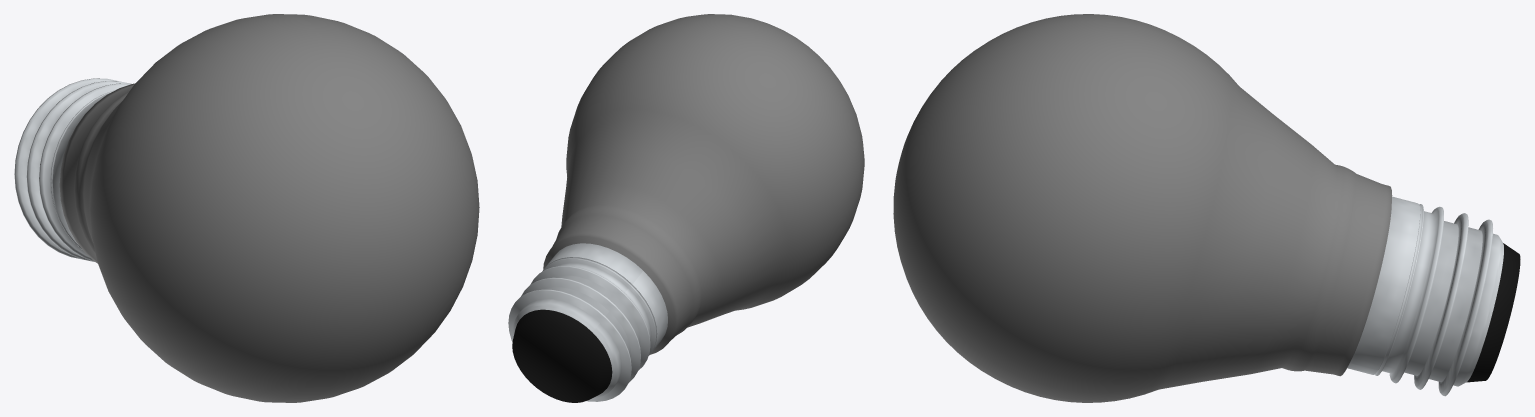
File: lighting_light_bulb_with_bulb_holder_6.glb
3 views of the same model, side by side, from view 1: azimuth 30°, elevation 25°; view 2: azimuth 150°, elevation 25°; view 3: azimuth 270°, elevation 25° (orthographic). The views are drawn at different scales.
Visible parts, largest first — view 1: Light Bulb.001; view 2: Light Bulb.001; view 3: Light Bulb.001.
Boxes of the visible parts, x1=… form: Light Bulb.001: x1=14, y1=14, x2=479, y2=402; Light Bulb.001: x1=508, y1=14, x2=864, y2=402; Light Bulb.001: x1=893, y1=14, x2=1520, y2=402.
Size of the model in its own units: 0.0974 by 0.0982 by 0.157.
6 materials, 1 textured.
